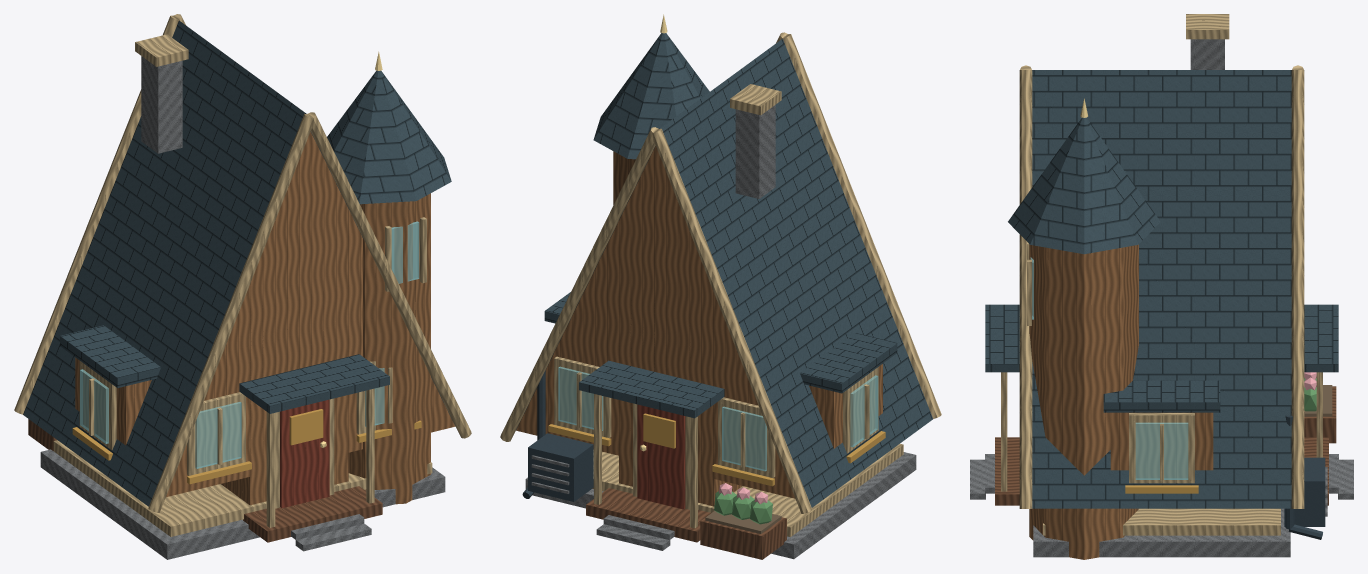
Rendered from house_aframe_lv3_tower.glb.
3 renders of one model, left to right at view 1: azimuth 30°, elevation 25°; view 2: azimuth 150°, elevation 25°; view 3: azimuth 270°, elevation 25°, orthographic. The views are drawn at different scales.
Parts seen in each view (by area): view 1: steep_roof, a_frame_gables, tower, walls, tower_roof, foundation, a_frame_edge, floor_trim, front_porch_canopy, a_frame_edge.002, front_door, a_frame_edge.001 (+17 smaller); view 2: steep_roof, a_frame_gables, tower_roof, a_frame_edge.001, back_porch_canopy, a_frame_edge, a_frame_edge.003, foundation, back_door, chimney, back_ac_unit, floor_trim (+22 smaller); view 3: steep_roof.001, tower, tower_roof, a_frame_edge.003, foundation, a_frame_edge.002, right_window_frame, floor_trim, right_dormer_cap, right_window_glass, back_porch_canopy, front_porch_canopy (+12 smaller).
Part boxes in pixels (<box>): steep_roof: <box>23,20,306,506</box>; a_frame_gables: <box>166,132,455,497</box>; tower: <box>348,193,430,504</box>; walls: <box>221,285,348,505</box>; tower_roof: <box>327,70,451,204</box>; foundation: <box>40,449,445,559</box>; a_frame_edge: <box>148,114,312,512</box>; floor_trim: <box>53,440,432,536</box>; front_porch_canopy: <box>239,354,389,413</box>; a_frame_edge.002: <box>307,112,471,438</box>; front_door: <box>280,399,329,508</box>; a_frame_edge.001: <box>14,15,178,414</box>; steep_roof: <box>659,39,932,507</box>; a_frame_gables: <box>516,146,795,498</box>; tower_roof: <box>593,33,709,159</box>; a_frame_edge.001: <box>653,128,812,513</box>; back_porch_canopy: <box>579,360,724,418</box>; a_frame_edge: <box>782,34,941,418</box>; a_frame_edge.003: <box>500,127,658,441</box>; foundation: <box>525,452,916,559</box>; back_door: <box>637,404,685,509</box>; chimney: <box>735,105,775,198</box>; back_ac_unit: <box>528,433,593,501</box>; floor_trim: <box>592,443,903,536</box>; steep_roof.001: <box>1032,70,1291,508</box>; tower: <box>1029,244,1138,559</box>; tower_roof: <box>1008,117,1160,254</box>; a_frame_edge.003: <box>1291,70,1304,508</box>; foundation: <box>1033,508,1290,557</box>; a_frame_edge.002: <box>1019,70,1032,508</box>; right_window_frame: <box>1129,413,1194,483</box>; floor_trim: <box>1043,508,1280,535</box>; right_dormer_cap: <box>1103,380,1220,412</box>; right_window_glass: <box>1135,422,1188,479</box>; back_porch_canopy: <box>1304,304,1338,372</box>; front_porch_canopy: <box>985,304,1019,372</box>.
Size of the model in its own units: 3.32 by 4.24 by 3.36.
Materials: 13 (7 with a texture image).
